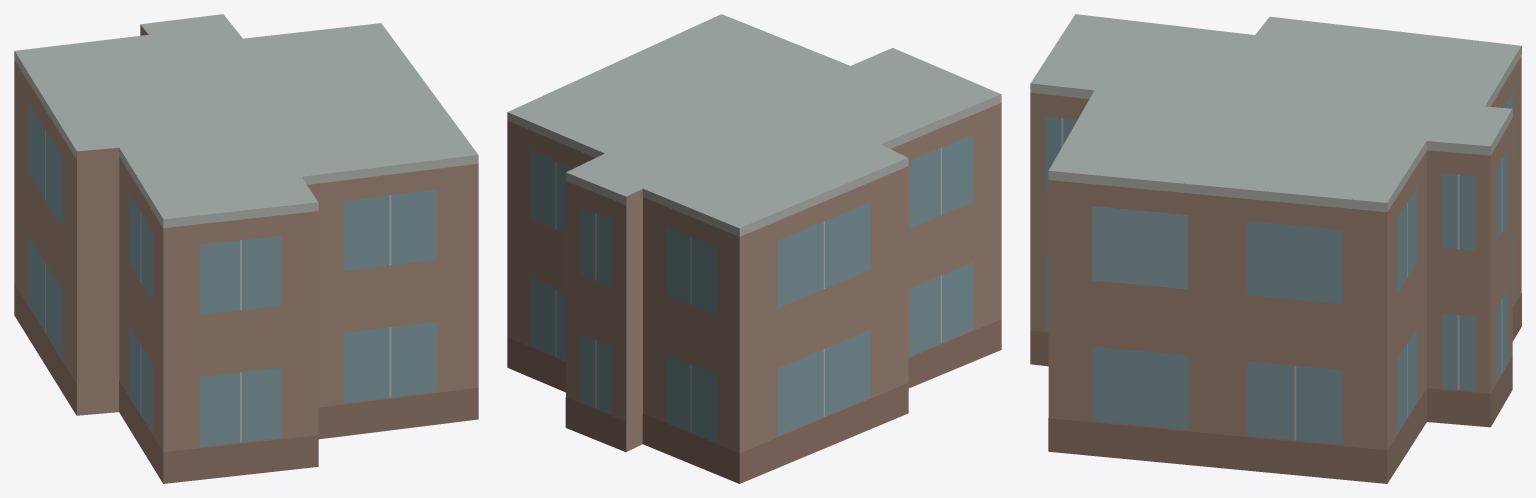
Rendered from survey-upis-32684995.glb.
The picture shows the model from 3 angles, left to right: view 1: azimuth 30°, elevation 25°; view 2: azimuth 150°, elevation 25°; view 3: azimuth 270°, elevation 25°; orthographic projection. The views are drawn at different scales.
Visible parts, largest first — view 1: survey-upis-32684995.tmp; view 2: survey-upis-32684995.tmp; view 3: survey-upis-32684995.tmp.
Boxes of the visible parts, box(x1,y1,x2,y2) form: survey-upis-32684995.tmp: box(14, 14, 478, 483); survey-upis-32684995.tmp: box(507, 14, 1001, 483); survey-upis-32684995.tmp: box(1030, 14, 1521, 483).
Bounding box in the file's own units: 10.69 × 7.4 × 11.74.
